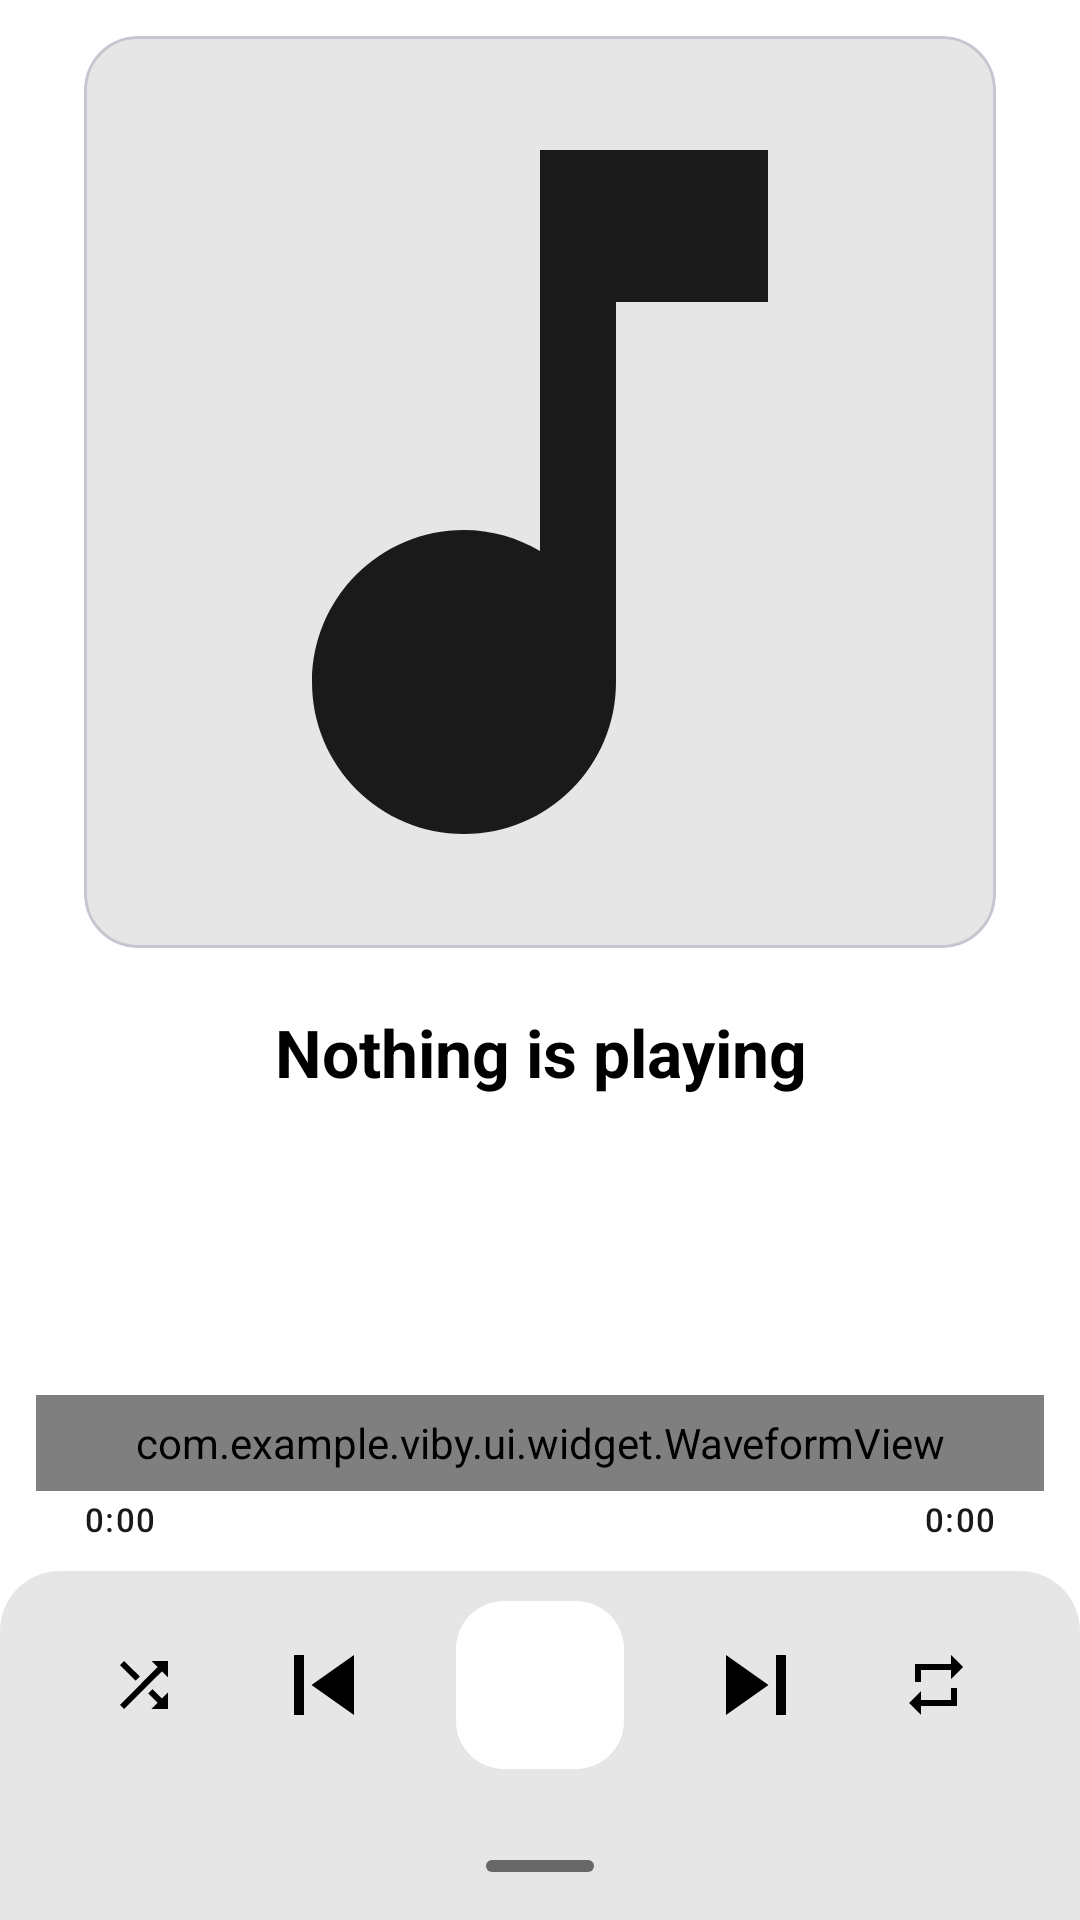

Named icons in this screenshot (1080x1920) and their centers, [x,y]:
Next: [756,1685]
Previous: [324,1685]
Repeat: [936,1685]
Shuffle: [144,1685]
